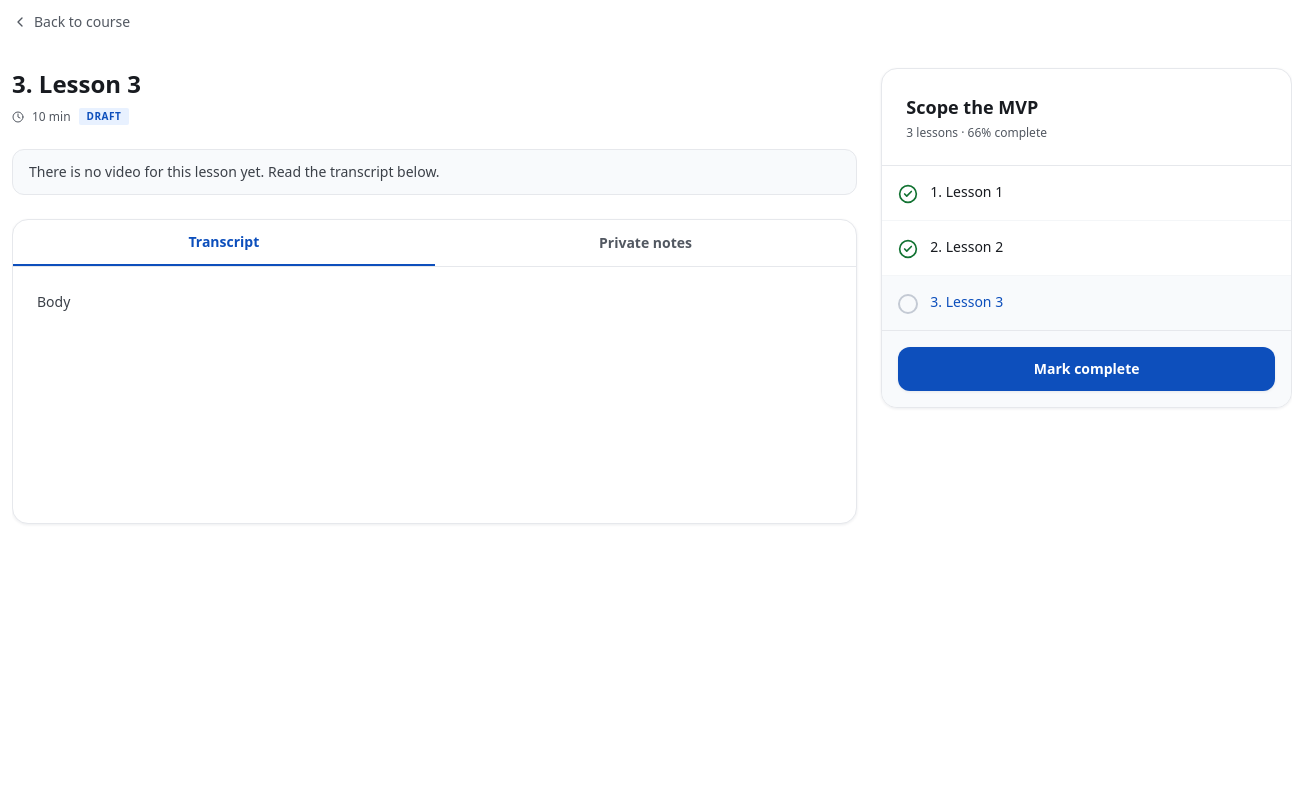
Test: lesson page: name before the certificate › a null profile is asked too; Not now leaves the lesson incomplete
This screenshot has width=1292, height=800.
What coordinates should you click on to do the following:
click the button "Mark complete"
I would click on:
 (1087, 369)
Its box is [898,347,1275,391].
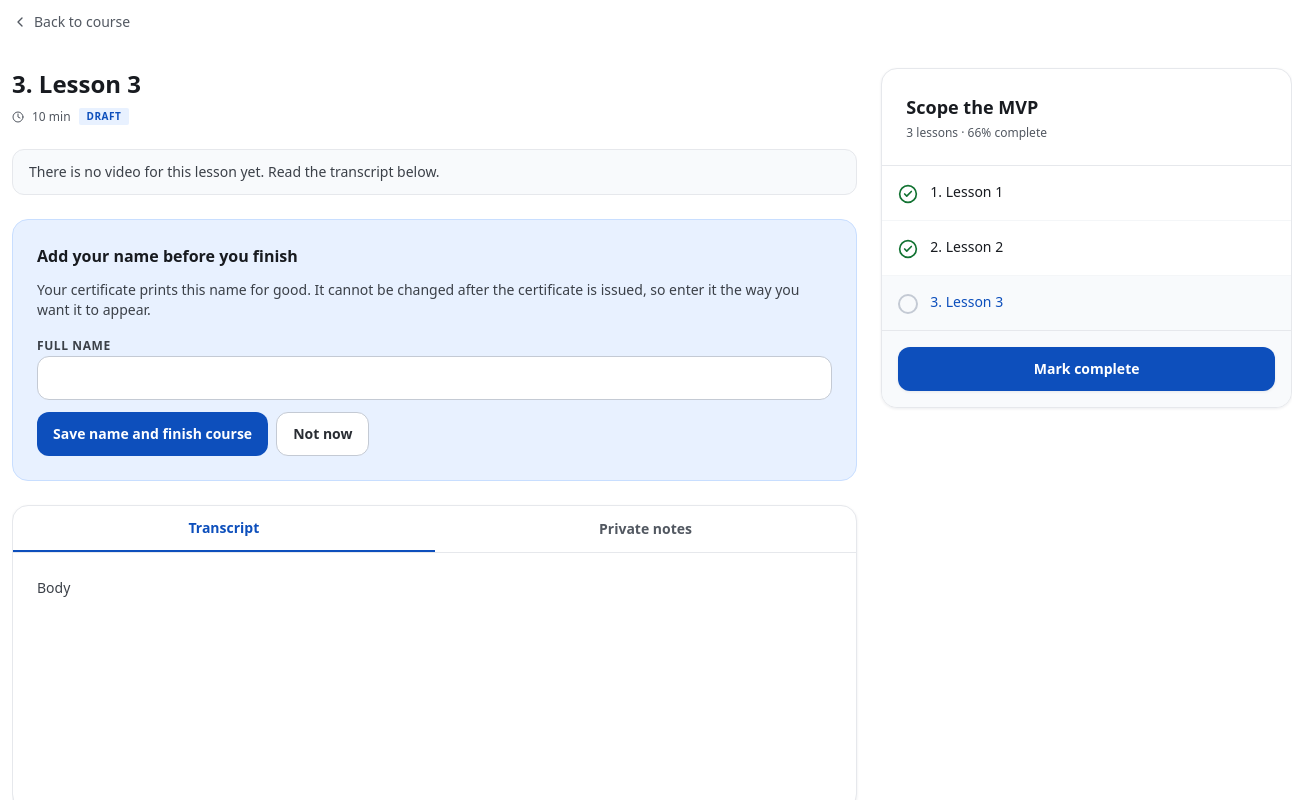
What coordinates should you click on to do the following:
click the button "Not now"
I would click on:
 (323, 434)
Its box is [276,412,369,456].
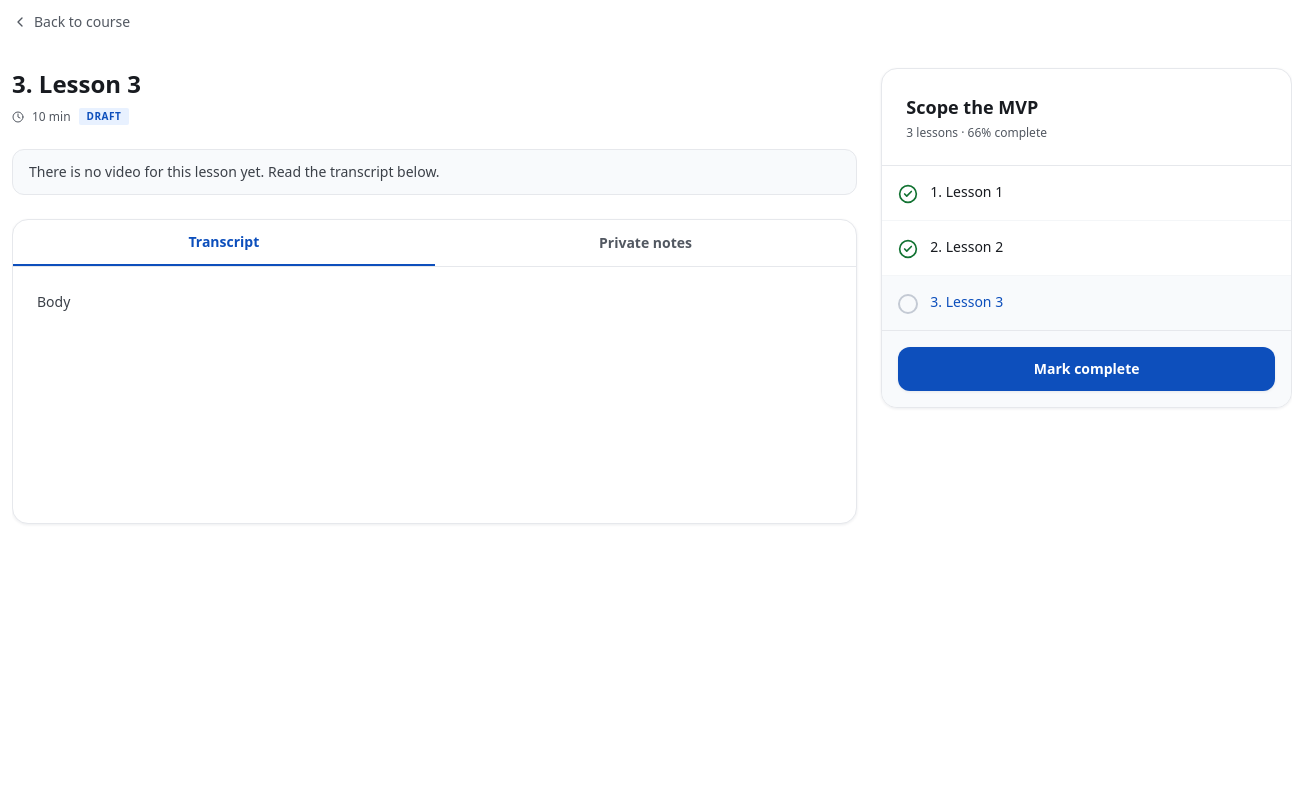
Expected: the heading "Add your name before you finish" is gone
